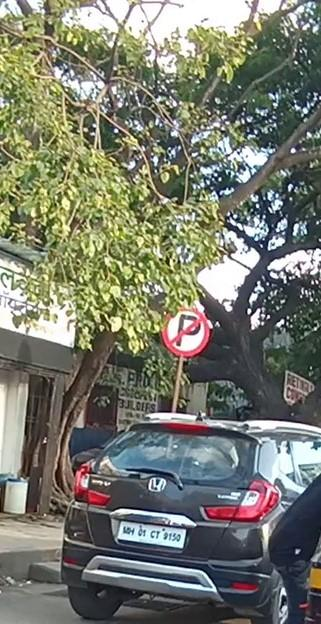MH01CT9150: (114, 520, 187, 551)
